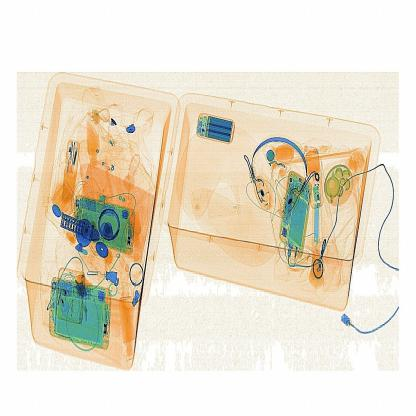pliers: (311, 197, 326, 267)
